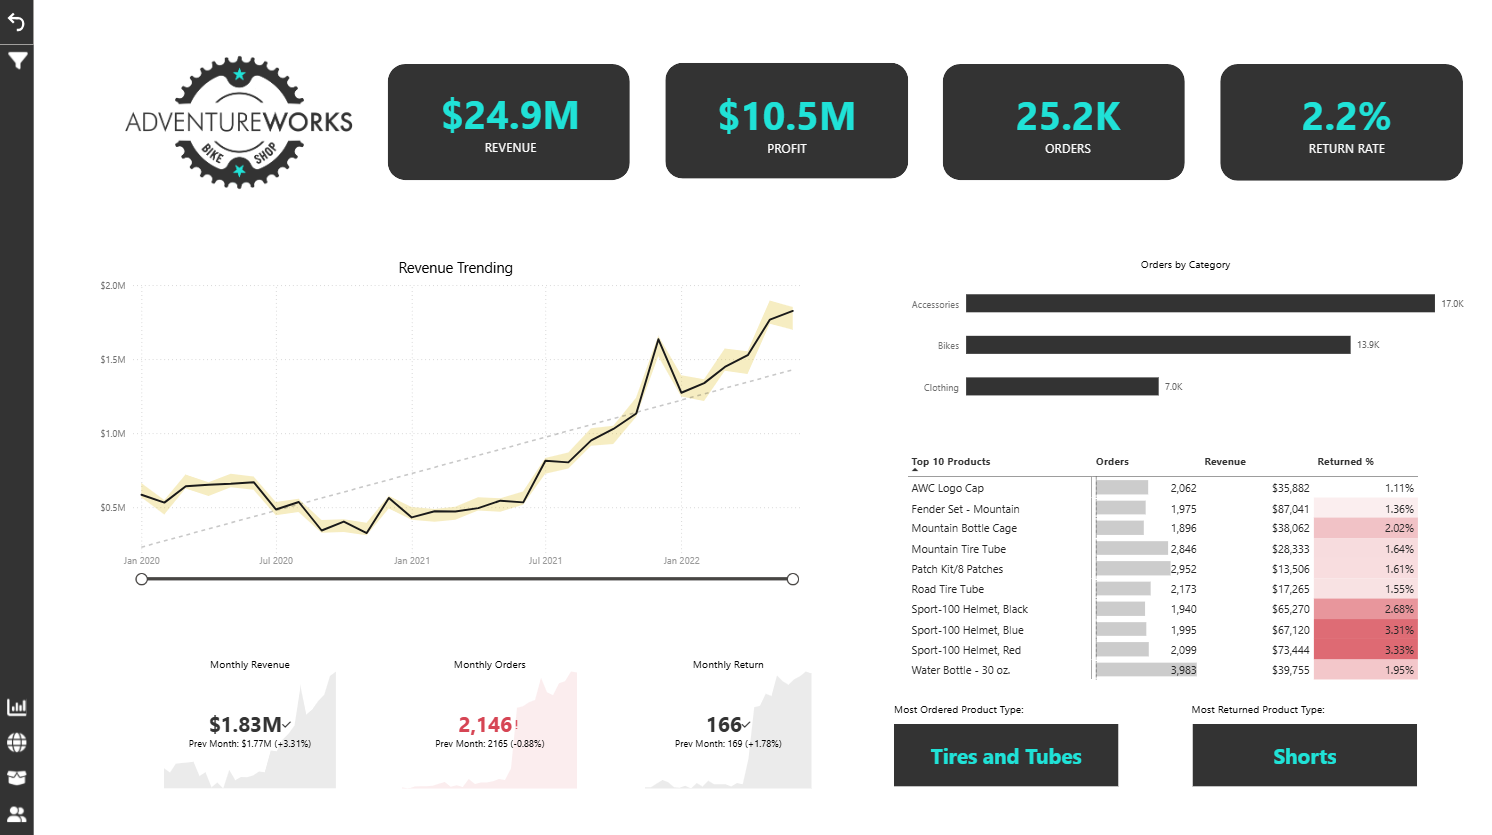

This screenshot's page, from the dashboard's own definition file:
{"tool":"powerbi","page":{"name":"Executive Dashboard","canvas":[1920,1080],"ordinal":0},"visuals":[{"type":"shape","box":[1568.6,83.3,311.7,150],"z":0},{"type":"shape","box":[1212.7,83.3,310.9,149.2],"z":1000},{"type":"image","title":"AW Logo","box":[129.3,59.7,357.4,198.5],"z":2000},{"type":"card","fields":{"Values":["Measure Table.Total Orders"]},"box":[1194.5,83.3,357.4,150],"z":3000},{"type":"shape","box":[855.6,81.1,312.2,148.9],"z":4000},{"type":"shape","title":"Left Nav Background","box":[0,0,44.6,1080.4],"z":5000},{"type":"card","fields":{"Values":["Measure Table.Returned Rate"]},"box":[1552.8,83.3,357.4,148.5],"z":6000},{"type":"card","fields":{"Values":["Measure Table.Total Profit"]},"box":[833.3,83.3,357.8,150],"z":7000},{"type":"shape","box":[499.1,83.3,310.9,149.2],"z":8000},{"type":"card","fields":{"Values":["Measure Table.Total Revenue"]},"box":[477.8,83.3,357.4,147.1],"z":9000},{"type":"lineChart","title":"Revenue Trending","fields":{"Category":["Calendar Lookup.Start of Month"],"Y":["Measure Table.Total Revenue"]},"box":[113.9,317.3,945.5,449.1],"z":10000},{"type":"kpi","title":"Monthly Revenue","fields":{"Goal":["Measure Table.Previous Month Revenue"],"Indicator":["Measure Table.Total Revenue"],"TrendLine":["Calendar Lookup.Start of Month"]},"box":[195.5,830.3,252.9,200],"z":11000},{"type":"kpi","title":"Monthly Orders","fields":{"Goal":["Measure Table.Previous Month Orders"],"Indicator":["Measure Table.Total Orders"],"TrendLine":["Calendar Lookup.Start of Month"]},"box":[502.8,830.3,255.9,200],"z":12000},{"type":"kpi","title":"Monthly Return","fields":{"Goal":["Measure Table.Previous Month Return"],"Indicator":["Measure Table.Total Returns"],"TrendLine":["Calendar Lookup.Start of Month"]},"box":[813.1,830.3,245.6,200],"z":13000},{"type":"clusteredBarChart","title":"Orders by Category","fields":{"Category":["Product Categories Lookup.CategoryName"],"Y":["Measure Table.Total Orders"]},"box":[1150.6,316.4,746.1,233.7],"z":14000},{"type":"pivotTable","fields":{"Rows":["Product Lookup.ProductName"],"Values":["Measure Table.Total Orders","Measure Table.Total Revenue","Measure Table.Returned Rate"]},"box":[1150.6,564.5,760.4,338],"z":15000},{"type":"cardVisual","fields":{"Data":["Min(Product Subcategories Lookup.SubcategoryName)"]},"box":[1149.9,930.3,288.2,80.9],"z":16000},{"type":"textbox","box":[1149.9,902.4,235.3,27.9],"z":17000},{"type":"cardVisual","fields":{"Data":["Min(Product Subcategories Lookup.SubcategoryName)"]},"box":[1533.7,930.3,288.2,80.9],"z":18000},{"type":"textbox","box":[1530.8,902.4,233.8,27.9],"z":19000},{"type":"actionButton","box":[0,0,44.7,58.8],"z":20000},{"type":"actionButton","box":[0.2,889.8,45.4,41.7],"z":21000},{"type":"actionButton","box":[0.2,934.6,45.4,41.7],"z":22000},{"type":"actionButton","box":[0.2,979.3,45.4,42.6],"z":23000},{"type":"actionButton","box":[0.2,1025,45.4,42.6],"z":24000},{"type":"actionButton","box":[1.1,58.9,45.6,40],"z":27000}]}

Visuals, with their boxes on the page's 1920x1080 design canvas (x1, y1, x2, y2). These are canvas units, not pixel positions in the 1492x835 screenshot, which may show the page scaled, cropped or inside an application window:
shape: [x1=1569, y1=83, x2=1880, y2=233]
shape: [x1=1213, y1=83, x2=1524, y2=232]
"AW Logo" image: [x1=129, y1=60, x2=487, y2=258]
card - Measure Table.Total Orders: [x1=1194, y1=83, x2=1552, y2=233]
shape: [x1=856, y1=81, x2=1168, y2=230]
"Left Nav Background" shape: [x1=0, y1=0, x2=45, y2=1080]
card - Measure Table.Returned Rate: [x1=1553, y1=83, x2=1910, y2=232]
card - Measure Table.Total Profit: [x1=833, y1=83, x2=1191, y2=233]
shape: [x1=499, y1=83, x2=810, y2=232]
card - Measure Table.Total Revenue: [x1=478, y1=83, x2=835, y2=230]
"Revenue Trending" lineChart: [x1=114, y1=317, x2=1059, y2=766]
"Monthly Revenue" kpi: [x1=196, y1=830, x2=448, y2=1030]
"Monthly Orders" kpi: [x1=503, y1=830, x2=759, y2=1030]
"Monthly Return" kpi: [x1=813, y1=830, x2=1059, y2=1030]
"Orders by Category" clusteredBarChart: [x1=1151, y1=316, x2=1897, y2=550]
pivotTable - Product Lookup.ProductName x Measure Table.Total Orders: [x1=1151, y1=564, x2=1911, y2=902]
cardVisual - Min(Product Subcategories Lookup.SubcategoryName): [x1=1150, y1=930, x2=1438, y2=1011]
textbox: [x1=1150, y1=902, x2=1385, y2=930]
cardVisual - Min(Product Subcategories Lookup.SubcategoryName): [x1=1534, y1=930, x2=1822, y2=1011]
textbox: [x1=1531, y1=902, x2=1765, y2=930]
actionButton: [x1=0, y1=0, x2=45, y2=59]
actionButton: [x1=0, y1=890, x2=46, y2=932]
actionButton: [x1=0, y1=935, x2=46, y2=976]
actionButton: [x1=0, y1=979, x2=46, y2=1022]
actionButton: [x1=0, y1=1025, x2=46, y2=1068]
actionButton: [x1=1, y1=59, x2=47, y2=99]
